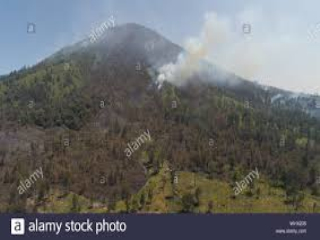smoke: (152, 21, 233, 86)
